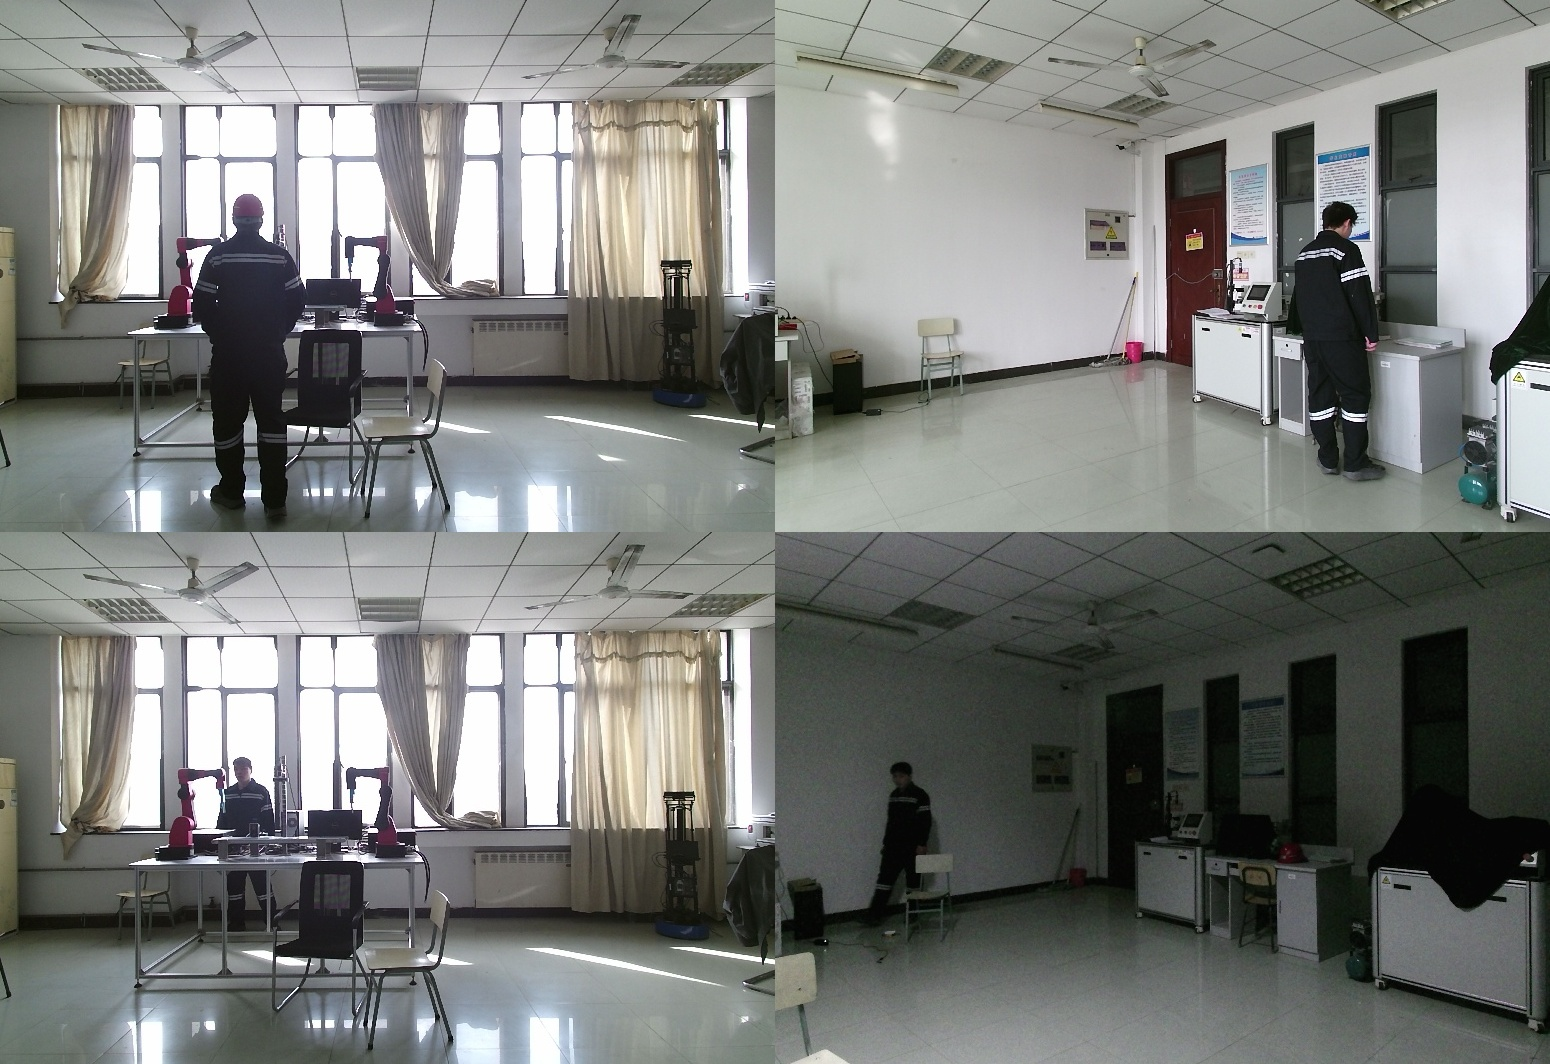person: (190, 194, 310, 523), (1290, 204, 1390, 487), (216, 760, 280, 932), (881, 763, 937, 923)
